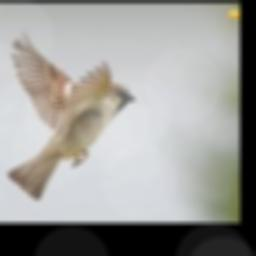Sparrow: (8, 31, 137, 200)
